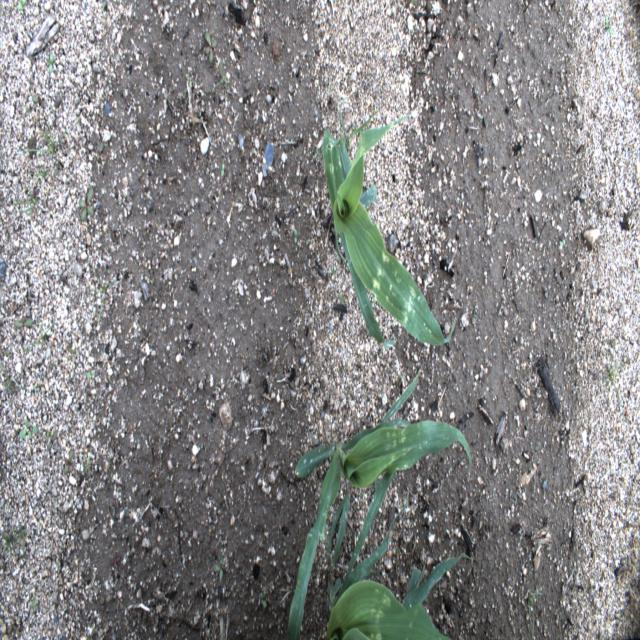crop: (281, 367, 470, 637), (323, 110, 455, 350), (323, 452, 478, 637)
weed: (14, 112, 85, 166), (2, 517, 27, 553), (203, 28, 220, 67), (77, 183, 94, 218), (213, 553, 228, 584), (14, 312, 36, 329), (256, 585, 268, 613), (18, 421, 36, 439), (603, 13, 614, 38), (32, 86, 40, 110)
